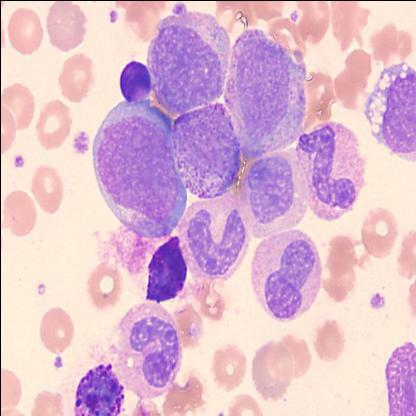Promyelocyte: (90, 96, 186, 242)
